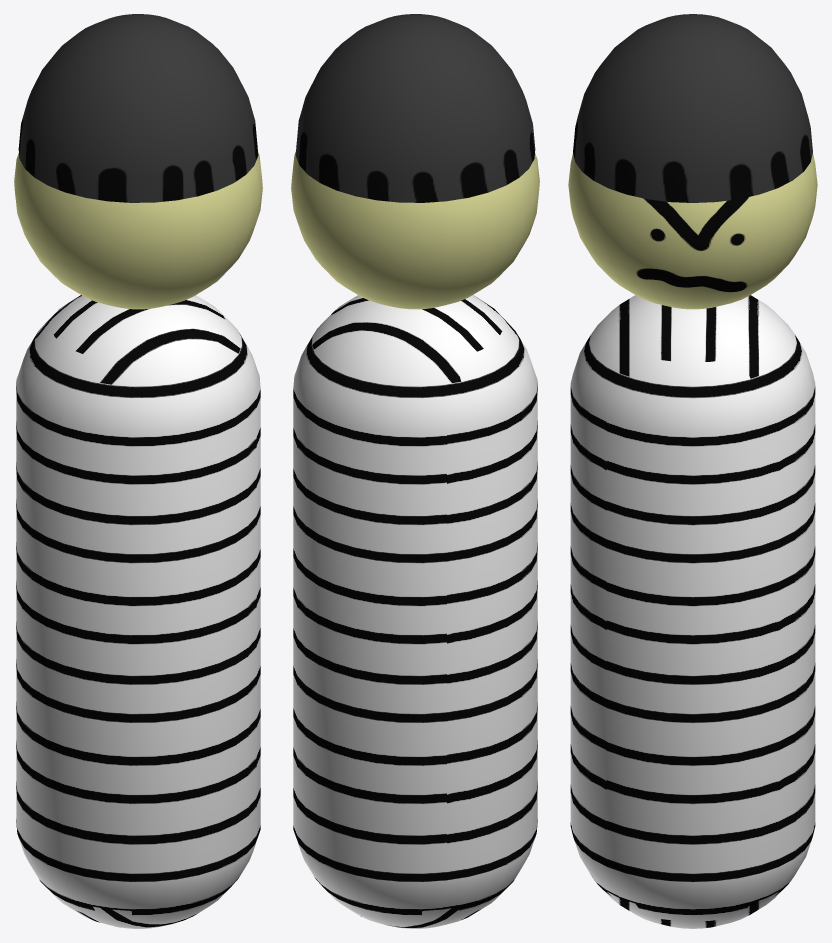
The model's file is enemy.glb.
The picture shows the model from 3 angles, left to right: view 1: azimuth 30°, elevation 25°; view 2: azimuth 150°, elevation 25°; view 3: azimuth 270°, elevation 25°; orthographic projection.
Parts seen in each view (by area): view 1: Sphere, Sphere.002, Sphere.001; view 2: Sphere, Sphere.002, Sphere.001; view 3: Sphere, Sphere.002, Sphere.001.
Part boxes in pixels (box(x1,y1,x2,y2)): Sphere: box(16, 295, 260, 928); Sphere.002: box(18, 14, 258, 202); Sphere.001: box(14, 152, 262, 309); Sphere: box(293, 295, 537, 928); Sphere.002: box(295, 14, 535, 202); Sphere.001: box(291, 152, 539, 309); Sphere: box(570, 295, 815, 928); Sphere.002: box(573, 14, 812, 202); Sphere.001: box(568, 153, 817, 309).
Size of the model in its own units: 1.13 by 4.46 by 1.13.
Materials: 3 (3 with a texture image).
